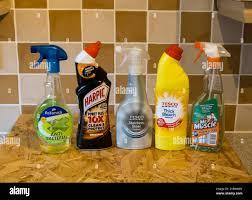cleaning chemical: (30, 43, 74, 152), (191, 41, 231, 149), (75, 42, 111, 149), (117, 47, 154, 150), (156, 45, 188, 150)
